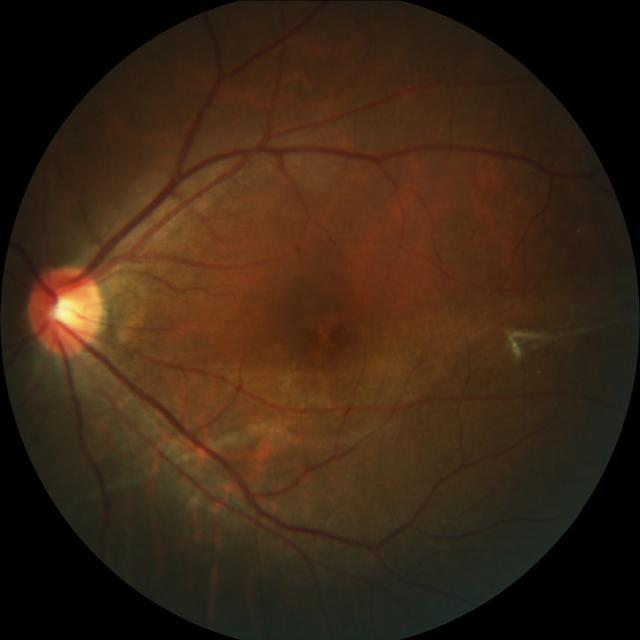OC: (46, 292, 82, 326)
OD: (27, 262, 102, 354)
